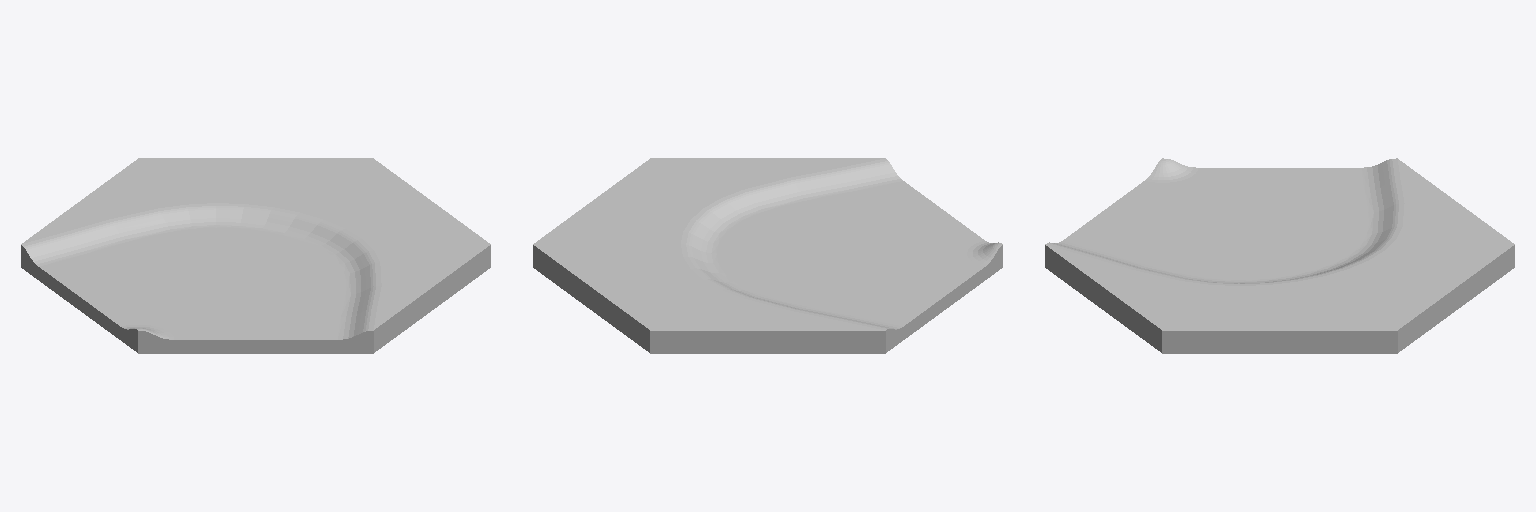
Rendered from Track_Flat_Curve_Sharp_Runoff.obj.
3 views of the same model, side by side, from view 1: azimuth 30°, elevation 25°; view 2: azimuth 150°, elevation 25°; view 3: azimuth 270°, elevation 25° (orthographic).
Parts seen in each view (by area): view 1: object1; view 2: object1; view 3: object1.
Boxes of the visible parts, box(x1,y1,x2,y2) form: object1: box(21, 158, 490, 353); object1: box(533, 158, 1002, 353); object1: box(1045, 158, 1514, 353).
Size of the model in its own units: 1 by 0.0625 by 1.15.